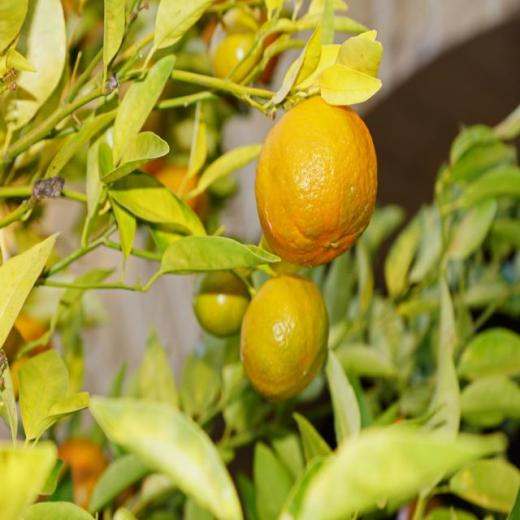Grape: (254, 92, 378, 268), (240, 275, 329, 403), (37, 438, 135, 518), (392, 414, 452, 520), (208, 8, 262, 86), (192, 268, 252, 336), (119, 57, 172, 132), (154, 166, 208, 223), (246, 5, 282, 81), (65, 12, 103, 81), (0, 326, 29, 398), (13, 313, 54, 358), (137, 132, 168, 176), (200, 15, 219, 47)
